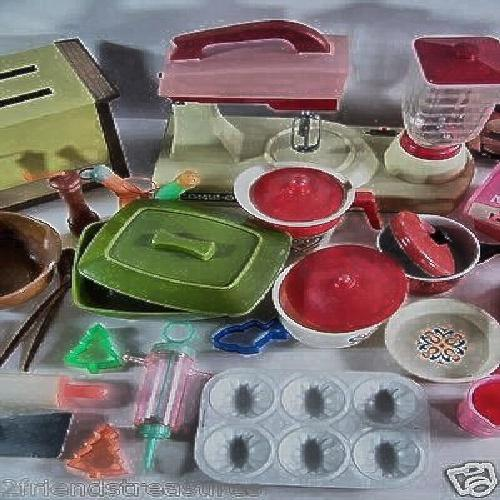toaster: (160, 26, 487, 211)
